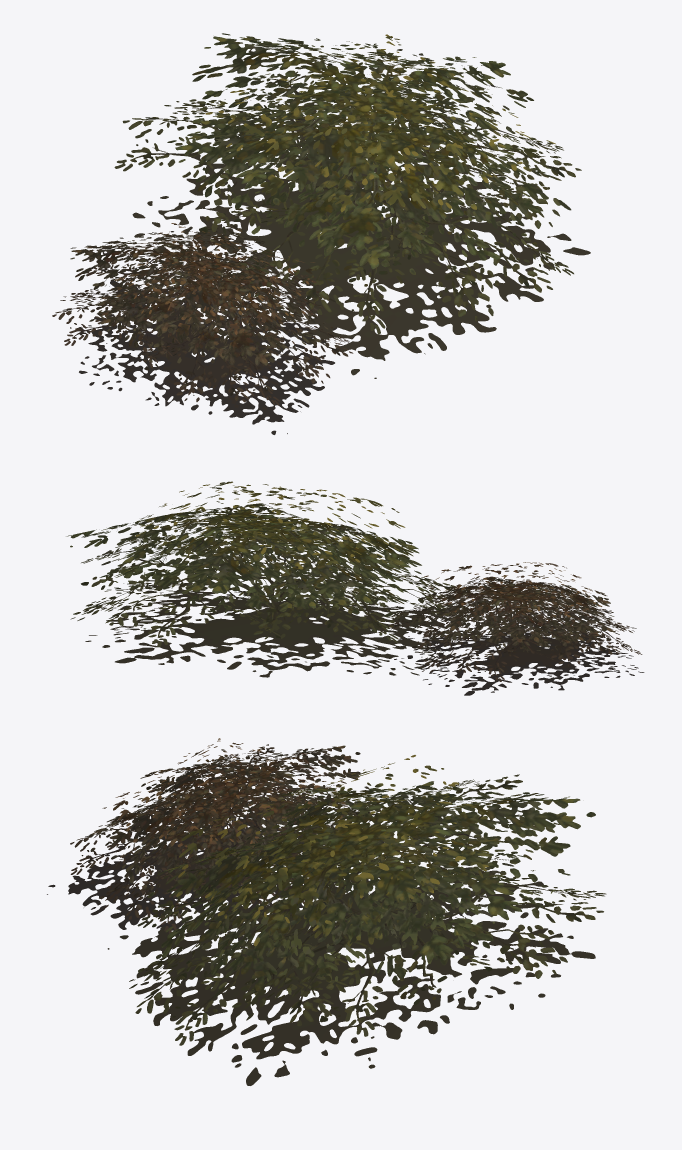
File: plants_bushes11.fbx
The picture shows the model from 3 angles, top to bottom: view 1: azimuth 30°, elevation 25°; view 2: azimuth 150°, elevation 25°; view 3: azimuth 270°, elevation 25°; orthographic projection. The views are drawn at different scales.
Parts seen in each view (by area): view 1: plants_bushes11-0; view 2: plants_bushes11-0; view 3: plants_bushes11-0.
Boxes of the visible parts, x1=… form: plants_bushes11-0: x1=52, y1=33, x2=590, y2=434; plants_bushes11-0: x1=66, y1=481, x2=644, y2=695; plants_bushes11-0: x1=47, y1=738, x2=606, y2=1085.
Bounding box in the file's own units: 7.05 × 2.09 × 5.95.
